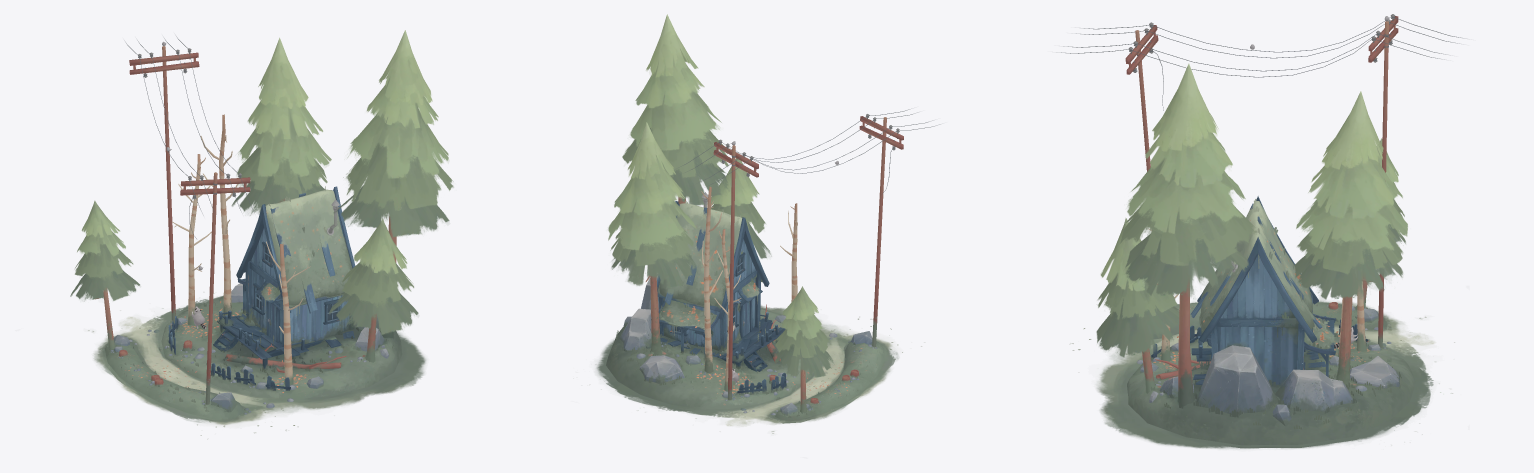
File: forest_house.glb
The picture shows the model from 3 angles, left to right: view 1: azimuth 30°, elevation 25°; view 2: azimuth 150°, elevation 25°; view 3: azimuth 270°, elevation 25°; orthographic projection. The views are drawn at different scales.
Visible parts, largest first — view 1: RedwoodAlpha, Ground, GroundPlane, RoofMoss, House, Powerlines, Rocks, HouseWoodFloor, BTree.001, BTree, BTree.002, Grass.Ground (+5 smaller); view 2: RedwoodAlpha, Ground, GroundPlane, Powerlines, RoofMoss, House, Rocks, BTree.001, SideRoofBase, HouseWoodFloor, Redwood, Grass.Ground (+4 smaller); view 3: RedwoodAlpha, Ground, Rocks, House, GroundPlane, Powerlines, RoofMoss, Redwood, Grass.Ground, SideRoofBase, Roof.009, HouseWoodFloor (+2 smaller).
Boxes of the visible parts, <box> form: RedwoodAlpha: <box>70,30,453,335</box>; Ground: <box>105,296,402,419</box>; GroundPlane: <box>88,292,426,439</box>; RoofMoss: <box>265,189,351,305</box>; House: <box>236,186,355,346</box>; Powerlines: <box>129,46,250,404</box>; Rocks: <box>113,283,385,411</box>; HouseWoodFloor: <box>217,313,354,359</box>; BTree.001: <box>200,114,237,316</box>; BTree: <box>266,241,310,385</box>; BTree.002: <box>172,154,211,325</box>; Grass.Ground: <box>107,295,394,412</box>; RedwoodAlpha: <box>608,14,834,377</box>; Ground: <box>606,308,884,423</box>; GroundPlane: <box>595,305,924,433</box>; Powerlines: <box>713,114,903,399</box>; RoofMoss: <box>659,203,742,306</box>; House: <box>657,201,769,350</box>; Rocks: <box>619,275,872,416</box>; BTree.001: <box>701,186,722,372</box>; SideRoofBase: <box>651,300,718,334</box>; HouseWoodFloor: <box>660,318,785,362</box>; Redwood: <box>645,195,806,413</box>; Grass.Ground: <box>613,317,881,417</box>; RedwoodAlpha: <box>1096,63,1407,358</box>; Ground: <box>1127,302,1415,448</box>; Rocks: <box>1140,306,1400,426</box>; House: <box>1197,196,1318,386</box>; GroundPlane: <box>1069,300,1454,448</box>; Powerlines: <box>1125,14,1398,347</box>; RoofMoss: <box>1199,201,1314,330</box>; Redwood: <box>1142,275,1372,406</box>; Grass.Ground: <box>1150,303,1401,429</box>; SideRoofBase: <box>1304,314,1335,355</box>; Roof.009: <box>1190,203,1322,328</box>; HouseWoodFloor: <box>1191,336,1325,385</box>.
Bounding box in the file's own units: 0.1447 × 0.1437 × 0.1766.
12 materials, 12 textured.
